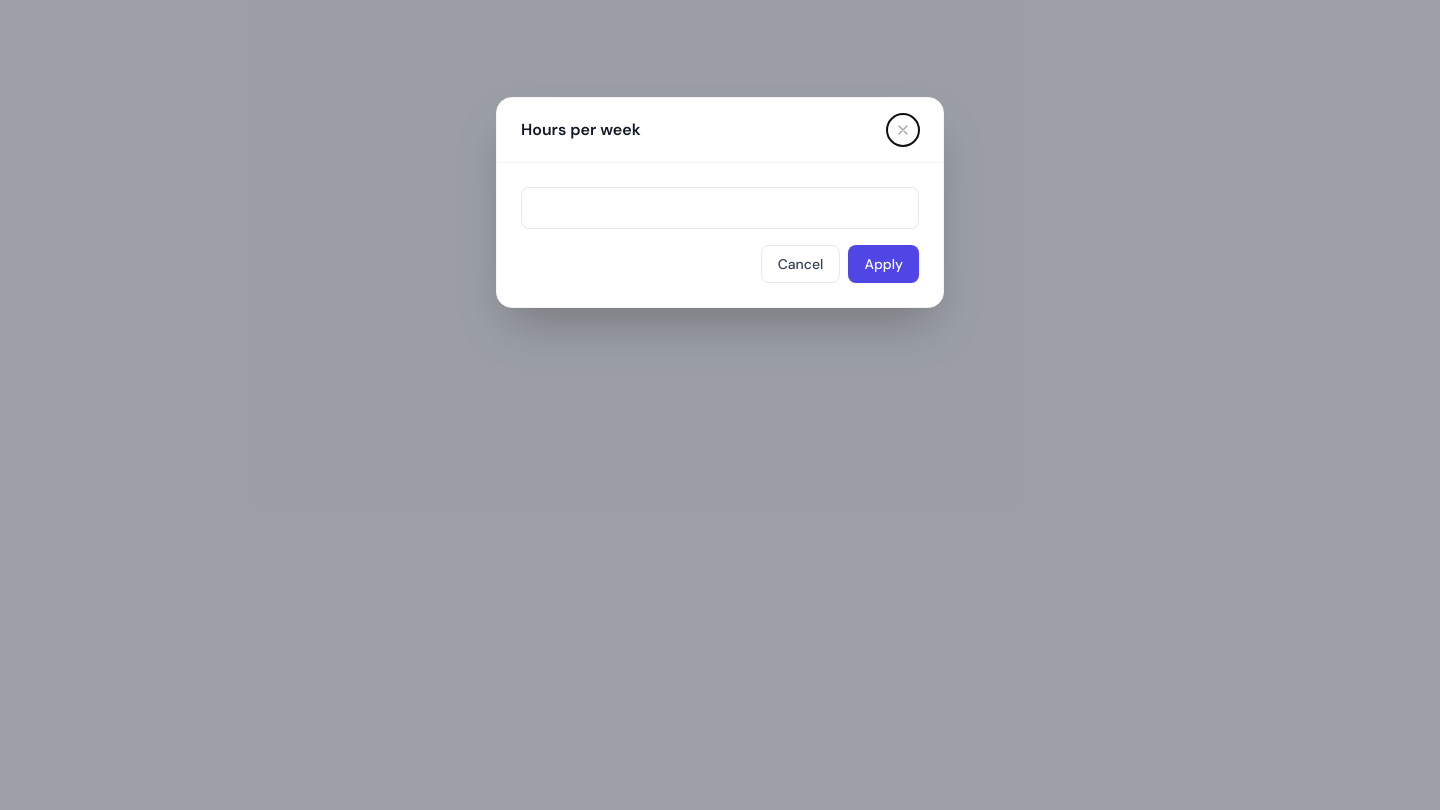
Test: PromptModal › disables submit while validator returns a non-null error
The image size is (1440, 810).
Type "999" into the field at {"x": 720, "y": 208}, box [521,187,919,229]
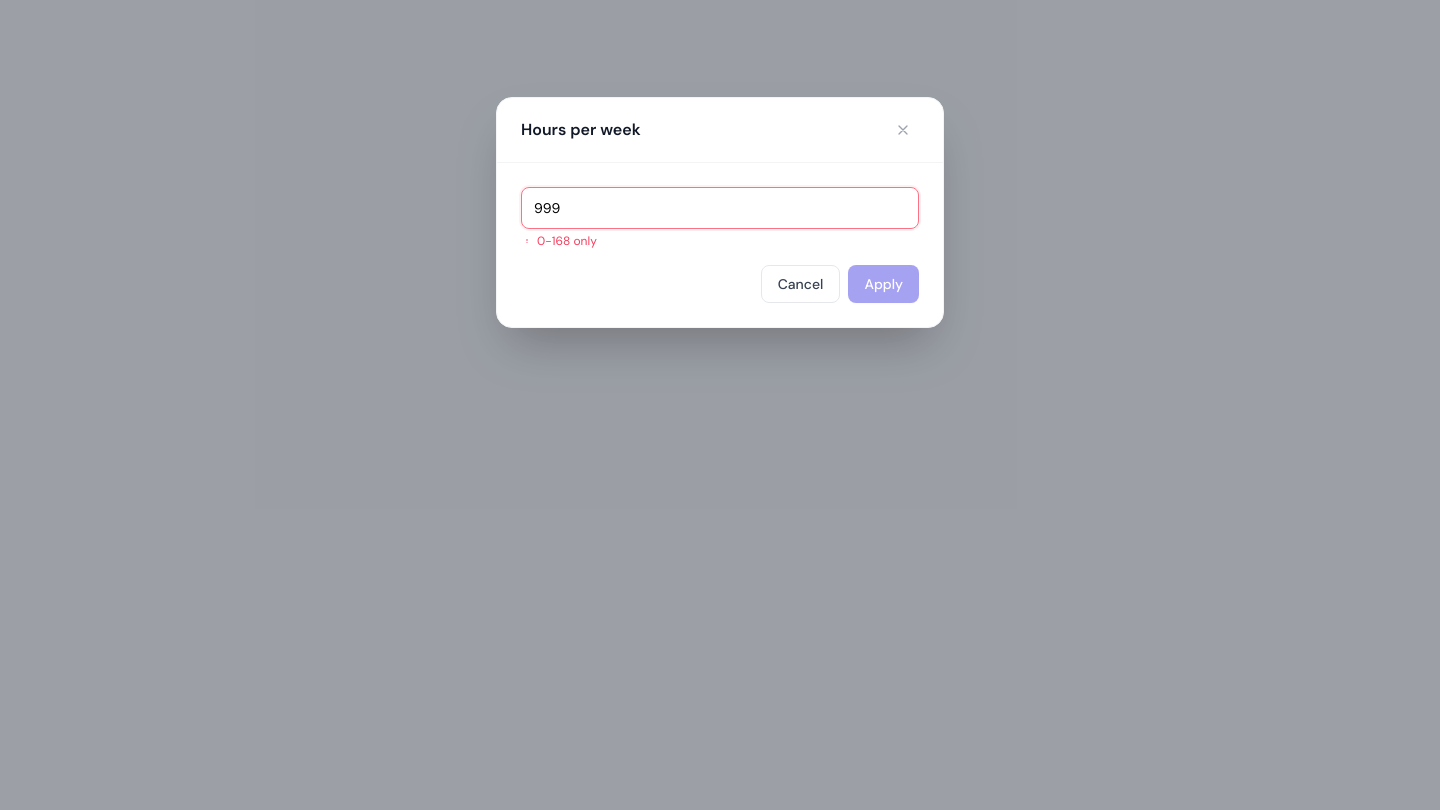
Result: the button "Apply" is disabled at [848,265,919,303]
Result: the text "0-168 only" is shown at [521,233,597,249]
